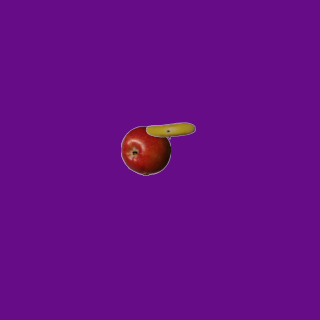Apple Braeburn: (120, 125, 170, 175)
Banana: (145, 105, 195, 155)
